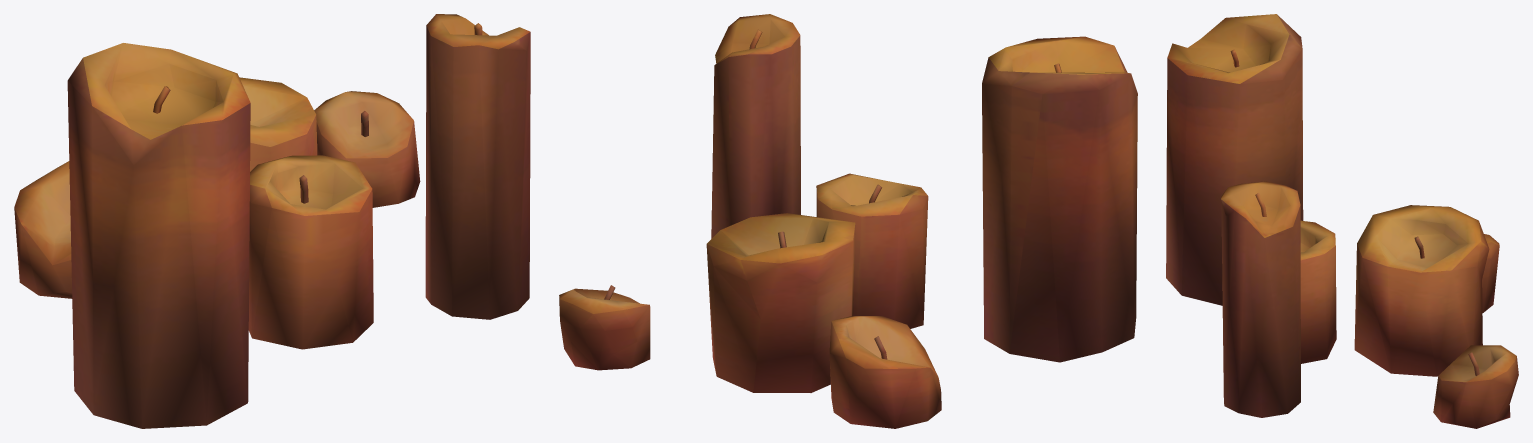
Rendered from candles001.glb.
3 views of the same model, side by side, from view 1: azimuth 30°, elevation 25°; view 2: azimuth 150°, elevation 25°; view 3: azimuth 270°, elevation 25° (orthographic). The views are drawn at different scales.
Visible parts, largest first — view 1: models\props_debris\candles001.vmdl_c.candles001_model; view 2: models\props_debris\candles001.vmdl_c.candles001_model; view 3: models\props_debris\candles001.vmdl_c.candles001_model.
Boxes of the visible parts, bbox=[...] form: models\props_debris\candles001.vmdl_c.candles001_model: bbox=[14, 14, 530, 428]; models\props_debris\candles001.vmdl_c.candles001_model: bbox=[559, 14, 1137, 428]; models\props_debris\candles001.vmdl_c.candles001_model: bbox=[1166, 14, 1518, 428].
Size of the model in its own units: 1.62 by 1.05 by 1.36.
1 material, 1 textured.
